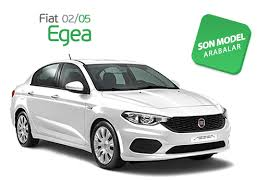car: (9, 59, 230, 170)
